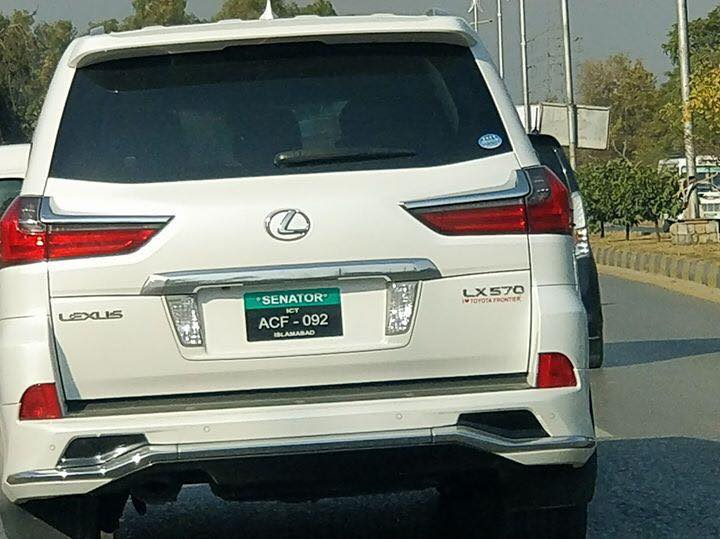license plate: (244, 292, 345, 339)
